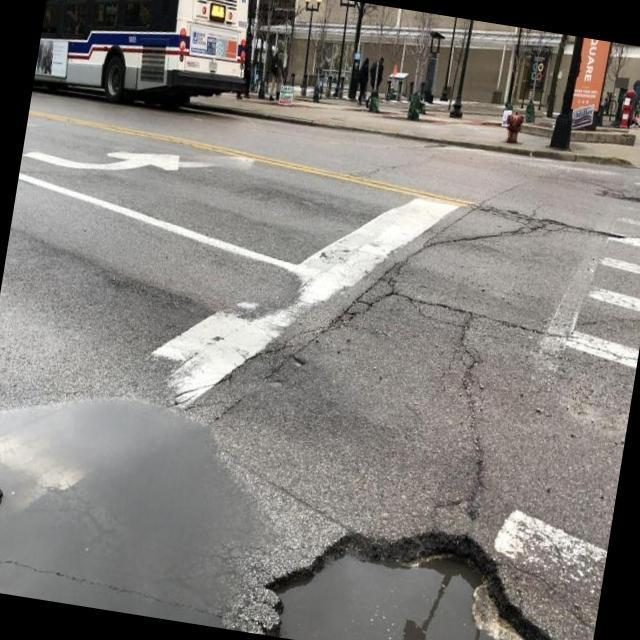Pothole: (272, 530, 555, 640)
